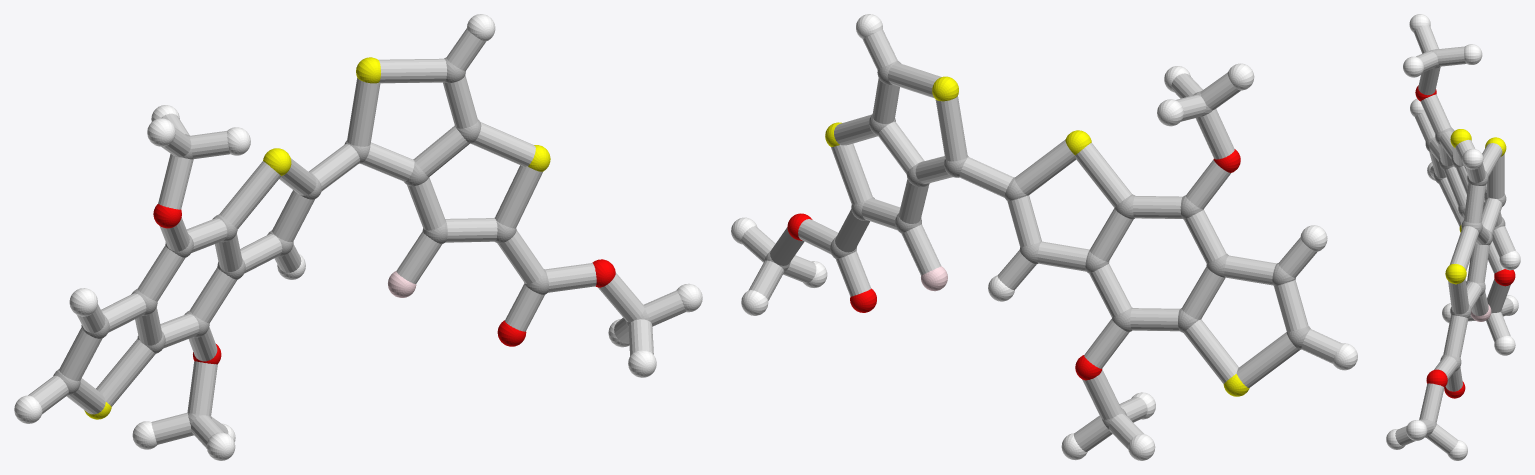
File: color.glb
3 views of the same model, side by side, from view 1: azimuth 30°, elevation 25°; view 2: azimuth 150°, elevation 25°; view 3: azimuth 270°, elevation 25° (orthographic). The views are drawn at different scales.
Parts seen in each view (by area): view 1: grp15205, grp8689, grp1, grp7241, grp13395; view 2: grp15205, grp8689, grp1, grp13395, grp7241; view 3: grp15205, grp8689, grp1, grp13395, grp7241, grp14843.
Boxes of the visible parts, x1=… form: grp15205: x1=28, y1=28, x2=685, y2=448; grp8689: x1=14, y1=14, x2=702, y2=460; grp1: x1=53, y1=57, x2=650, y2=435; grp7241: x1=84, y1=57, x2=550, y2=419; grp13395: x1=153, y1=204, x2=615, y2=364; grp15205: x1=741, y1=29, x2=1341, y2=451; grp8689: x1=731, y1=14, x2=1357, y2=460; grp1: x1=764, y1=61, x2=1310, y2=429; grp13395: x1=787, y1=149, x2=1240, y2=380; grp7241: x1=825, y1=76, x2=1249, y2=396; grp15205: x1=1395, y1=25, x2=1515, y2=453; grp8689: x1=1386, y1=14, x2=1520, y2=460; grp1: x1=1419, y1=49, x2=1506, y2=437; grp13395: x1=1415, y1=85, x2=1515, y2=398; grp7241: x1=1445, y1=129, x2=1506, y2=284; grp14843: x1=1471, y1=304, x2=1491, y2=321.
Size of the model in its own units: 16.2 by 9.28 by 3.8.
